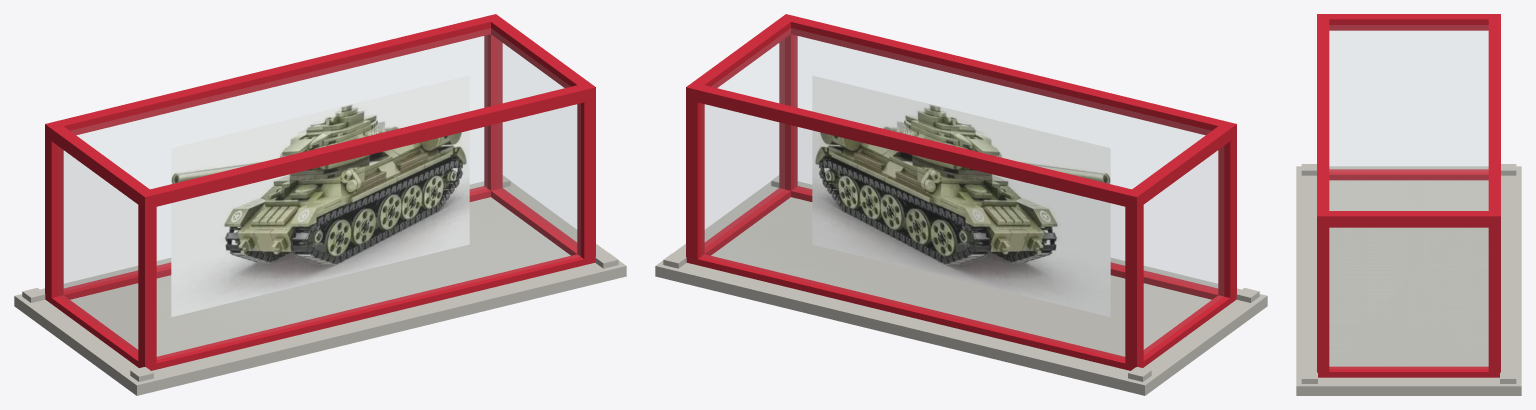
The model's file is t34-85-tank.glb.
The picture shows the model from 3 angles, left to right: view 1: azimuth 30°, elevation 25°; view 2: azimuth 150°, elevation 25°; view 3: azimuth 270°, elevation 25°; orthographic projection. The views are drawn at different scales.
Bounding box in the file's own units: 0.291 × 0.1055 × 0.126.
4 materials, 1 textured.
